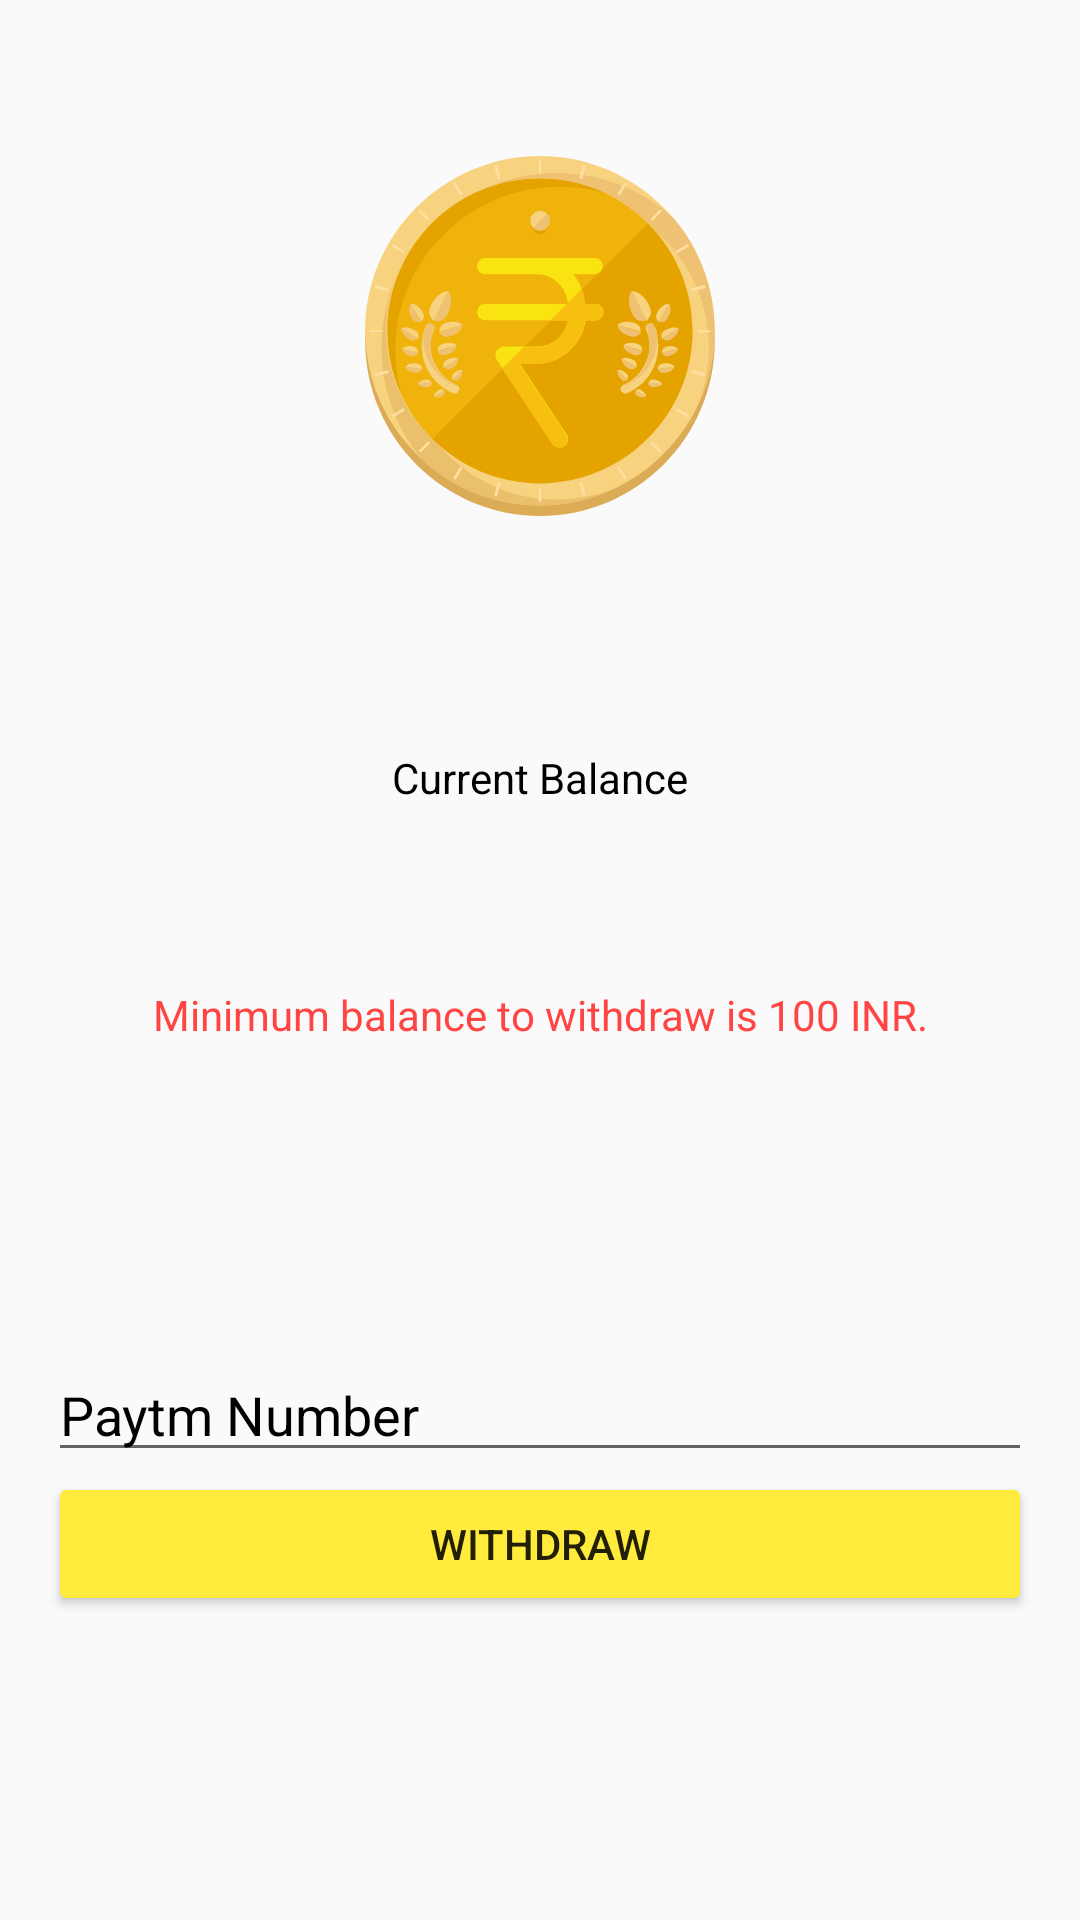

Icons on this 1080 x 1920 Android screen, each with its box as (x1, y1, x2, y2):
rupee for login: (365, 156, 715, 516)
